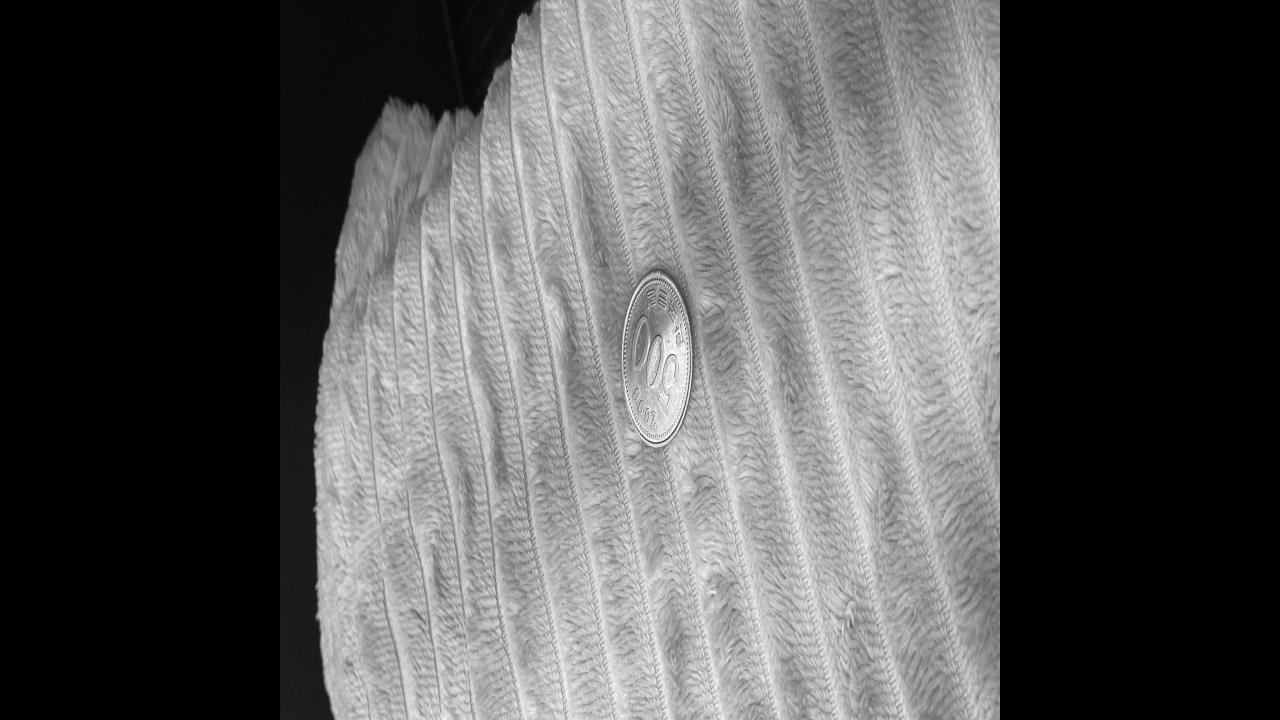coin: (620, 268, 694, 452)
